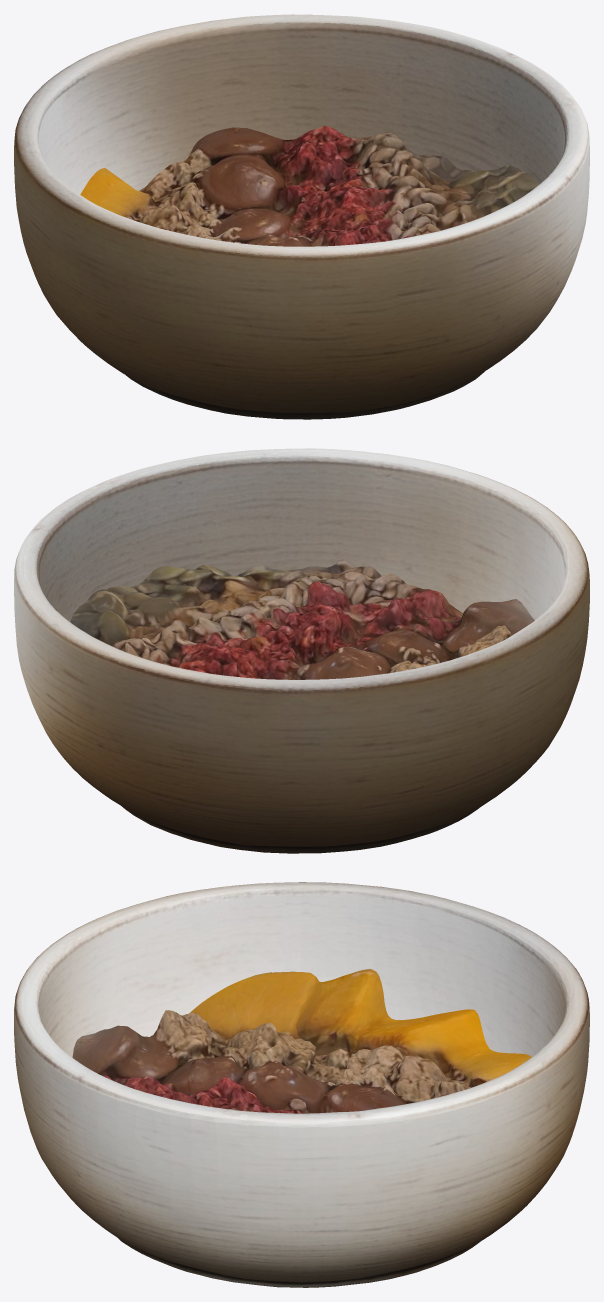
File: Set.miveh.sefidchoobi.glb
The picture shows the model from 3 angles, top to bottom: view 1: azimuth 30°, elevation 25°; view 2: azimuth 150°, elevation 25°; view 3: azimuth 270°, elevation 25°; orthographic projection.
Visible parts, largest first — view 1: world, object 2; view 2: world, object 2; view 3: world, object 2.
Part boxes in pixels (x1,y1,x2,y2): world: [14, 14, 589, 419]; object 2: [80, 126, 538, 246]; world: [14, 448, 589, 853]; object 2: [70, 561, 534, 679]; world: [14, 882, 589, 1287]; object 2: [72, 968, 531, 1113].
Bounding box in the file's own units: 0.1749 × 0.069 × 0.1749.
2 materials, 2 textured.
